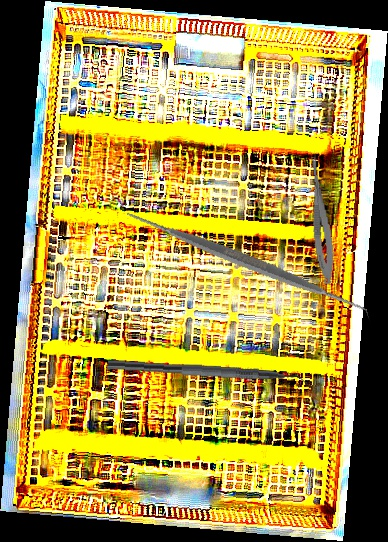Chopper: (106, 359, 316, 395)
Micro Scissor: (301, 149, 339, 286)
Spatula Surgical: (122, 137, 372, 387)
